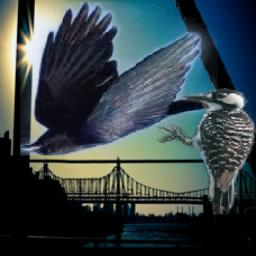Crow: (20, 2, 218, 155)
Woodpecker: (156, 88, 256, 215)
